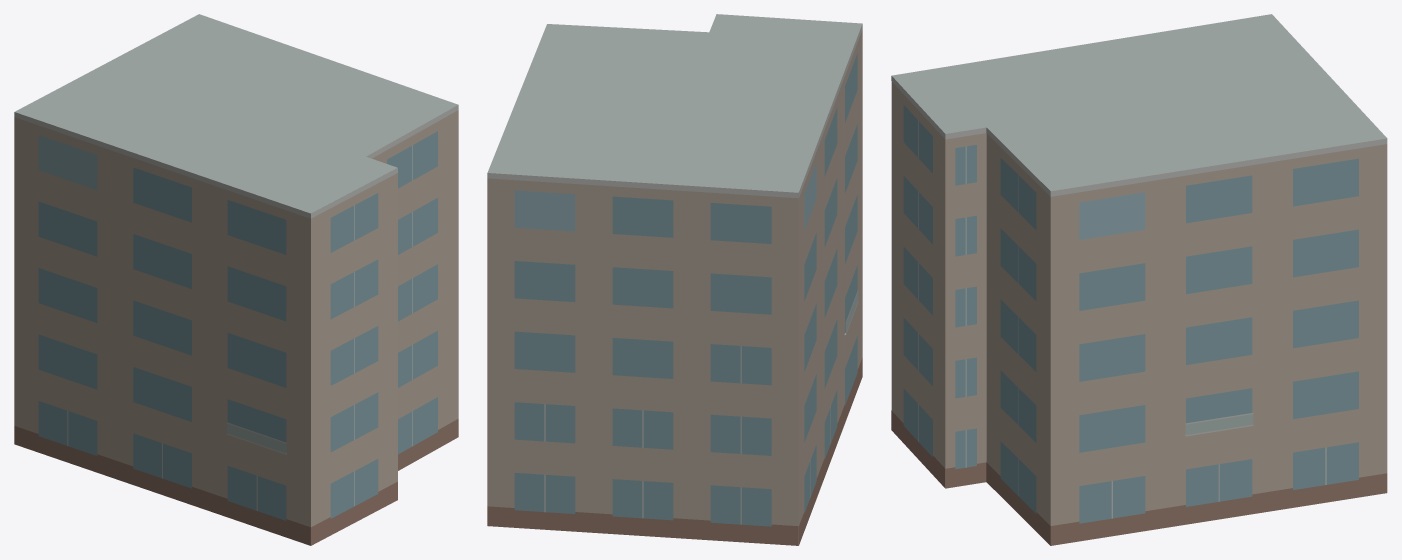
The model's file is survey-upis-32989184.glb.
3 views of the same model, side by side, from view 1: azimuth 30°, elevation 25°; view 2: azimuth 150°, elevation 25°; view 3: azimuth 270°, elevation 25° (orthographic). The views are drawn at different scales.
Parts seen in each view (by area): view 1: survey-upis-32989184.tmp; view 2: survey-upis-32989184.tmp; view 3: survey-upis-32989184.tmp.
Boxes of the visible parts, left/top/right/bottom form: survey-upis-32989184.tmp: left=14, top=14, right=458, bottom=545; survey-upis-32989184.tmp: left=487, top=14, right=862, bottom=545; survey-upis-32989184.tmp: left=891, top=14, right=1387, bottom=545.
Bounding box in the file's own units: 16.85 × 15.7 × 19.91.
